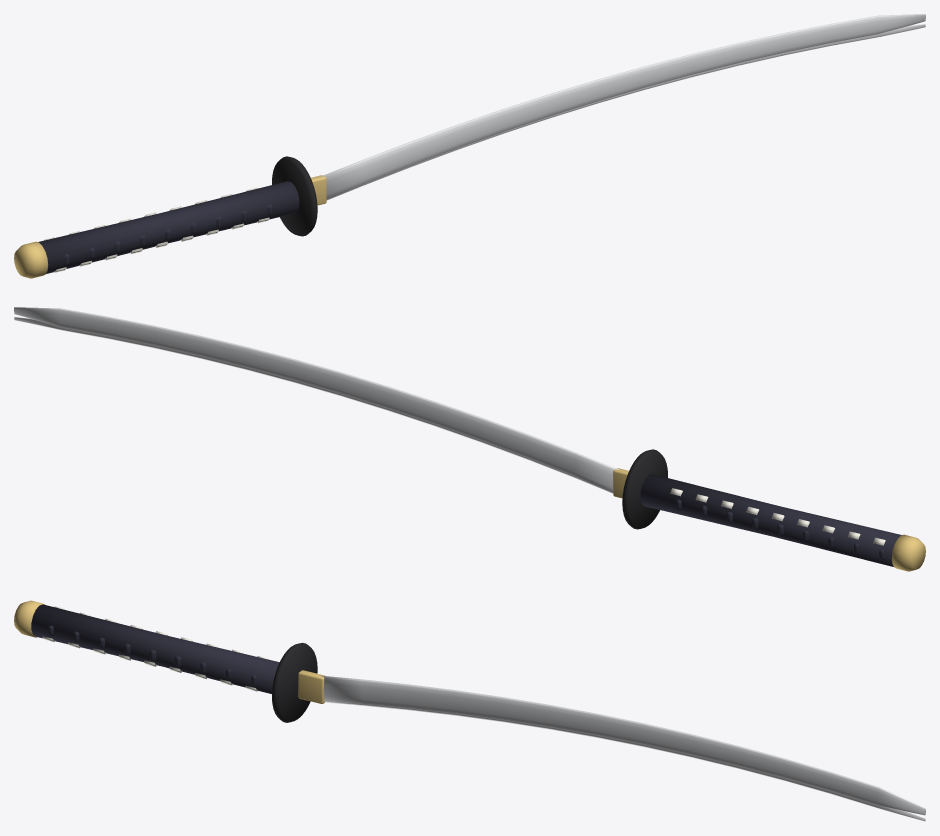
Rendered from SM_Katana.glb.
The picture shows the model from 3 angles, top to bottom: view 1: azimuth 30°, elevation 25°; view 2: azimuth 150°, elevation 25°; view 3: azimuth 330°, elevation 25°; orthographic projection.
Parts seen in each view (by area): view 1: SM_Katana; view 2: SM_Katana; view 3: SM_Katana.
Boxes of the visible parts, x1,y1,x2,y2 form: SM_Katana: [14, 14, 925, 278]; SM_Katana: [14, 307, 925, 571]; SM_Katana: [14, 600, 925, 821].
Bounding box in the file's own units: 1.07 × 0.0934 × 0.084.
